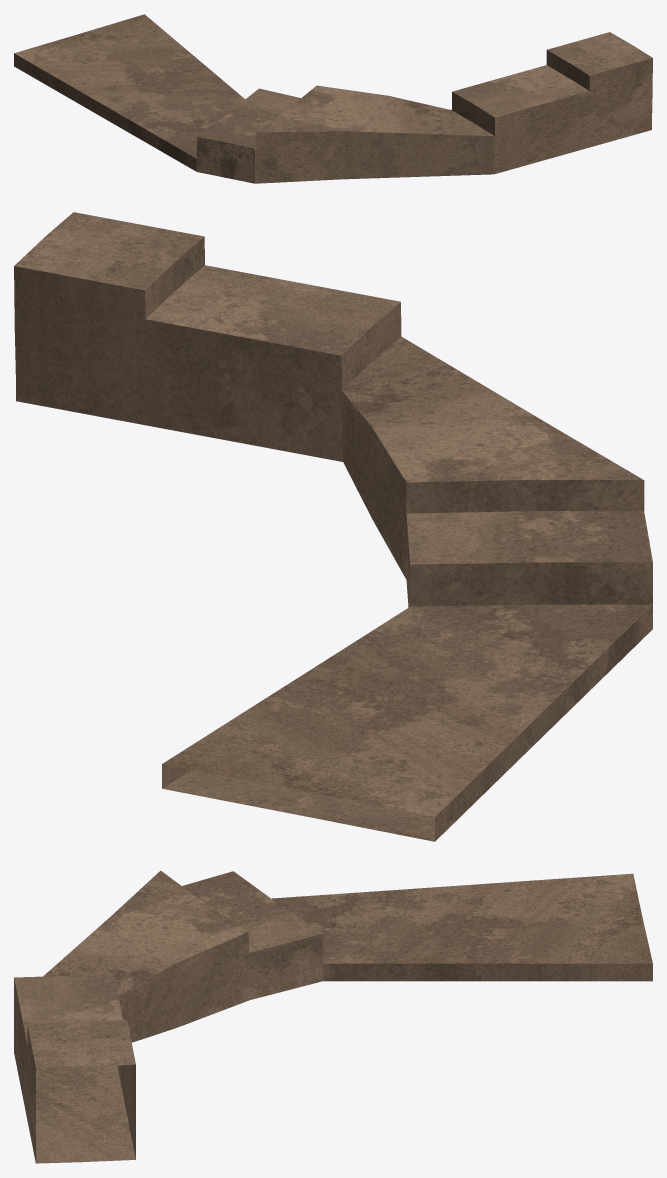
File: JembatanMainArena.fbx
3 renders of one model, top to bottom at view 1: azimuth 30°, elevation 25°; view 2: azimuth 150°, elevation 25°; view 3: azimuth 270°, elevation 25°, orthographic. The views are drawn at different scales.
Visible parts, largest first — view 1: Fight 6.001; view 2: Fight 6.001; view 3: Fight 6.001.
Boxes of the visible parts, left/top/right/bottom form: Fight 6.001: left=14, top=14, right=652, bottom=183; Fight 6.001: left=14, top=212, right=652, bottom=841; Fight 6.001: left=14, top=870, right=652, bottom=1163.
Size of the model in its own units: 8734 by 1517 by 8693.
1 material, 1 textured.
